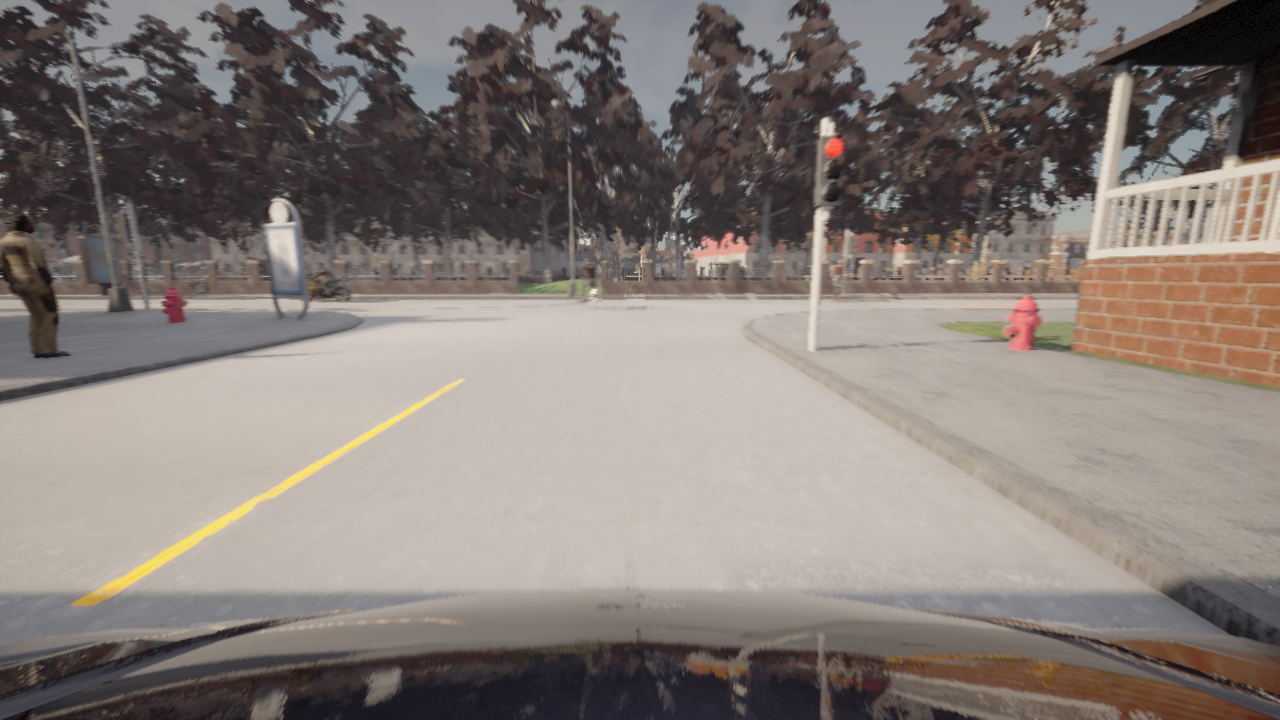cyclist: (0, 588, 1279, 719), (300, 273, 351, 301), (578, 279, 599, 309)
pedestrian: (0, 213, 72, 358), (832, 258, 847, 301)
